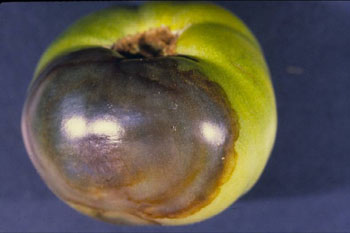blossom_rotw: (47, 41, 238, 220)
